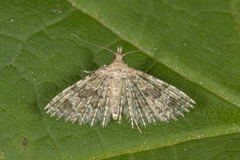Alucitidae: (43, 33, 203, 134)
moth: (41, 31, 201, 132)
